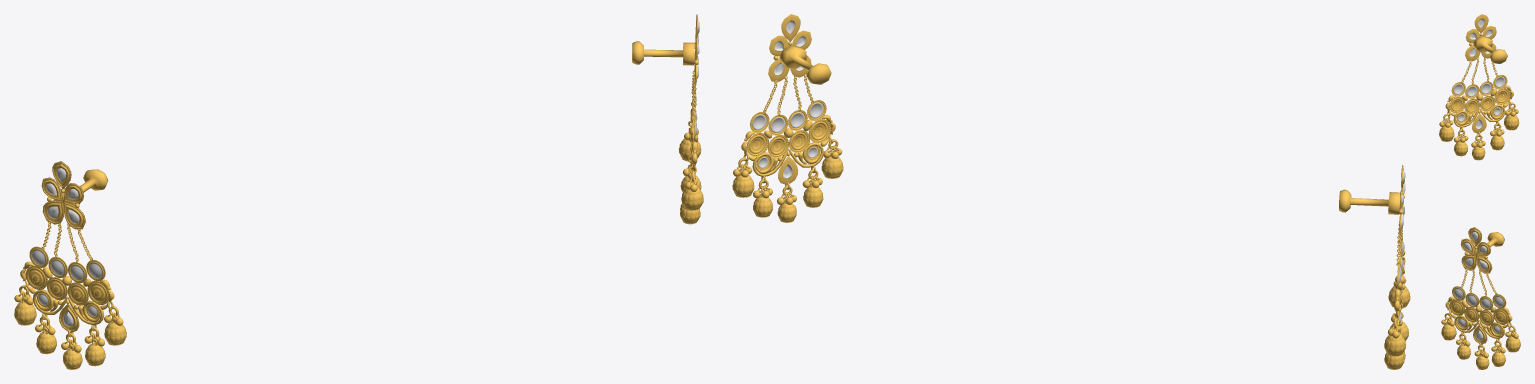
File: Ear_Ring_Jewellery_Light.glb
3 renders of one model, left to right at view 1: azimuth 30°, elevation 25°; view 2: azimuth 150°, elevation 25°; view 3: azimuth 270°, elevation 25°, orthographic. The views are drawn at different scales.
Visible parts, largest first — view 1: Circle.003, Petal.001, Dn_Balls.001, Spherical_Comp.001, Chains&Links.001, Dn_Balls, Cylinder, Curvy.001, Spherical_Comp; view 2: Circle.001, Petal, Dn_Balls, Spherical_Comp, Chains&Links, Dn_Balls.001, Cylinder, Cylinder.001, Curvy, Spherical_Comp.001; view 3: Circle.003, Circle.001, Petal, Petal.001, Dn_Balls, Dn_Balls.001, Spherical_Comp.001, Spherical_Comp, Chains&Links, Chains&Links.001, Cylinder.001, Curvy.001 (+2 smaller).
Boxes of the visible parts, x1,y1,x2,y2 form: Circle.003: (25,246,109,318); Petal.001: (41,161,85,332); Dn_Balls.001: (14,301,126,369); Spherical_Comp.001: (14,189,123,352); Chains&Links.001: (18,221,120,350); Dn_Balls: (679,138,703,224); Cylinder: (632,41,694,65); Curvy.001: (32,289,104,325); Spherical_Comp: (683,41,698,191); Circle.001: (746,100,831,170); Petal: (768,14,811,185); Dn_Balls: (732,156,843,222); Spherical_Comp: (733,41,842,204); Chains&Links: (737,74,839,203); Dn_Balls.001: (1384,286,1410,369); Cylinder: (779,45,831,84); Cylinder.001: (1339,189,1400,214); Curvy: (752,142,823,176); Spherical_Comp.001: (1388,191,1406,338); Circle.003: (1449,75,1510,122); Circle.001: (1449,286,1508,334); Petal: (1460,227,1492,344); Petal.001: (1465,14,1496,133); Dn_Balls: (1441,324,1520,369); Dn_Balls.001: (1439,114,1519,160); Spherical_Comp.001: (1439,33,1518,147); Spherical_Comp: (1441,246,1518,358); Chains&Links: (1444,269,1516,356); Chains&Links.001: (1442,57,1516,146); Cylinder.001: (1473,36,1507,63); Curvy.001: (1453,104,1505,127).
Bounding box in the file's own units: 0.7587 × 0.2226 × 0.1146.
